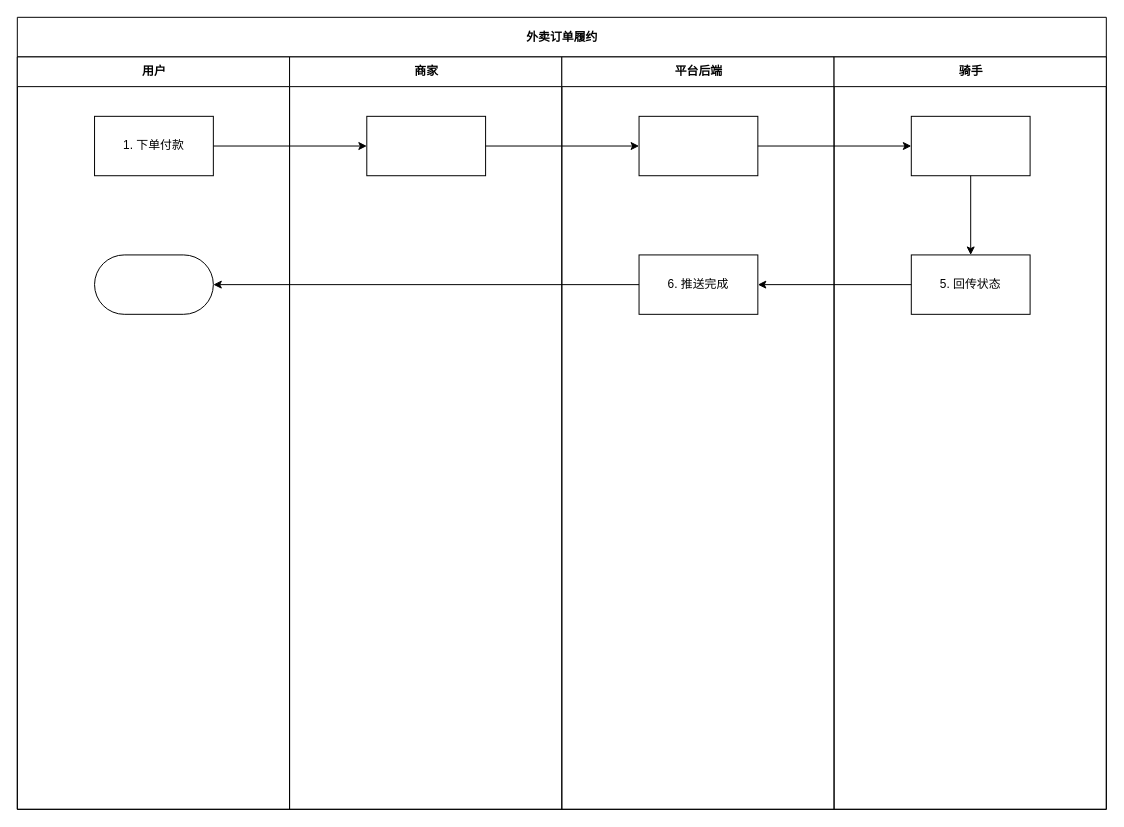
Some shapes in this 1124 by 827 pixel diagram are drawn without their labels. The shapes that lost their labels are listed below. From the top down, each one's centre as x and y in pixels, then its label:
At (x=426, y=145): "2. 接单备餐".
At (x=698, y=145): "3. 通知派单".
At (x=970, y=145): "4. 取餐送达".
At (x=153, y=284): "7. 完成评价".
